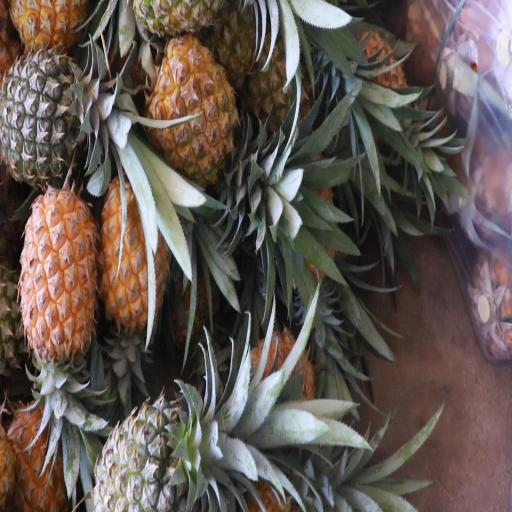Pineapple - v8 v1: (147, 36, 264, 176), (20, 189, 92, 402), (101, 176, 172, 340)
